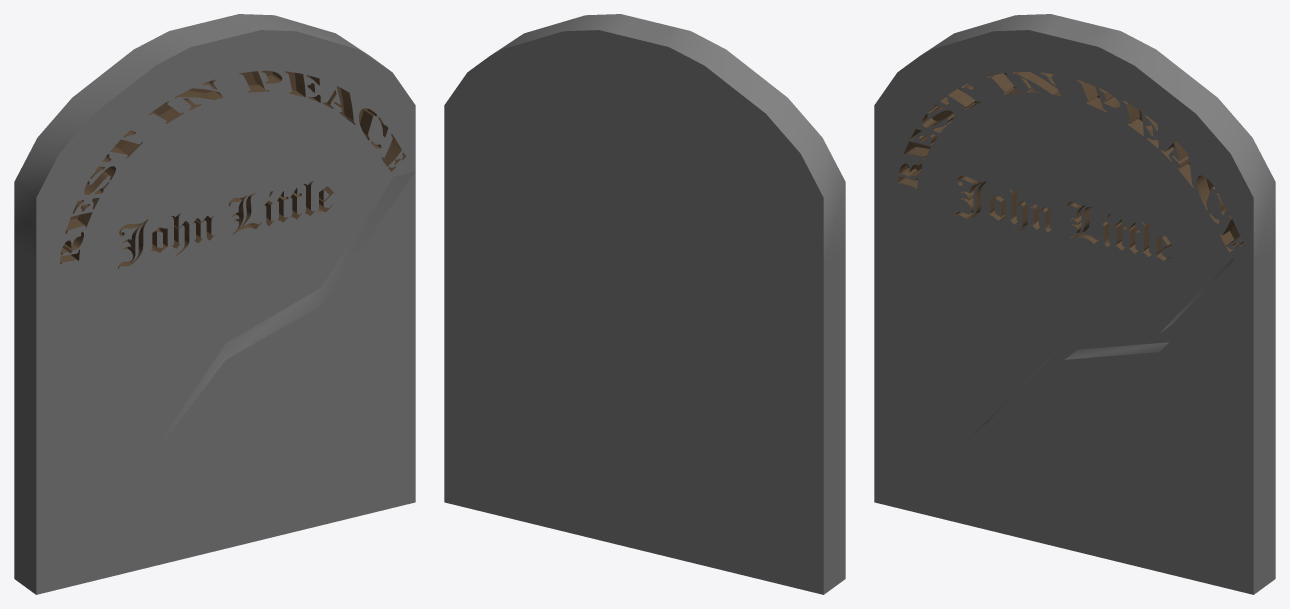
File: stone1.fbx
The picture shows the model from 3 angles, left to right: view 1: azimuth 30°, elevation 25°; view 2: azimuth 150°, elevation 25°; view 3: azimuth 330°, elevation 25°; orthographic projection.
Visible parts, largest first — view 1: Cube, J; view 2: Cube; view 3: Cube, P, J.
Part boxes in pixels (x1,y1,x2,y2): Cube: (14, 14, 415, 594); J: (118, 219, 147, 268); Cube: (444, 14, 845, 594); Cube: (874, 14, 1275, 594); P: (1077, 80, 1120, 112); J: (956, 176, 985, 218).
Size of the model in its own units: 200 by 257 by 20.
